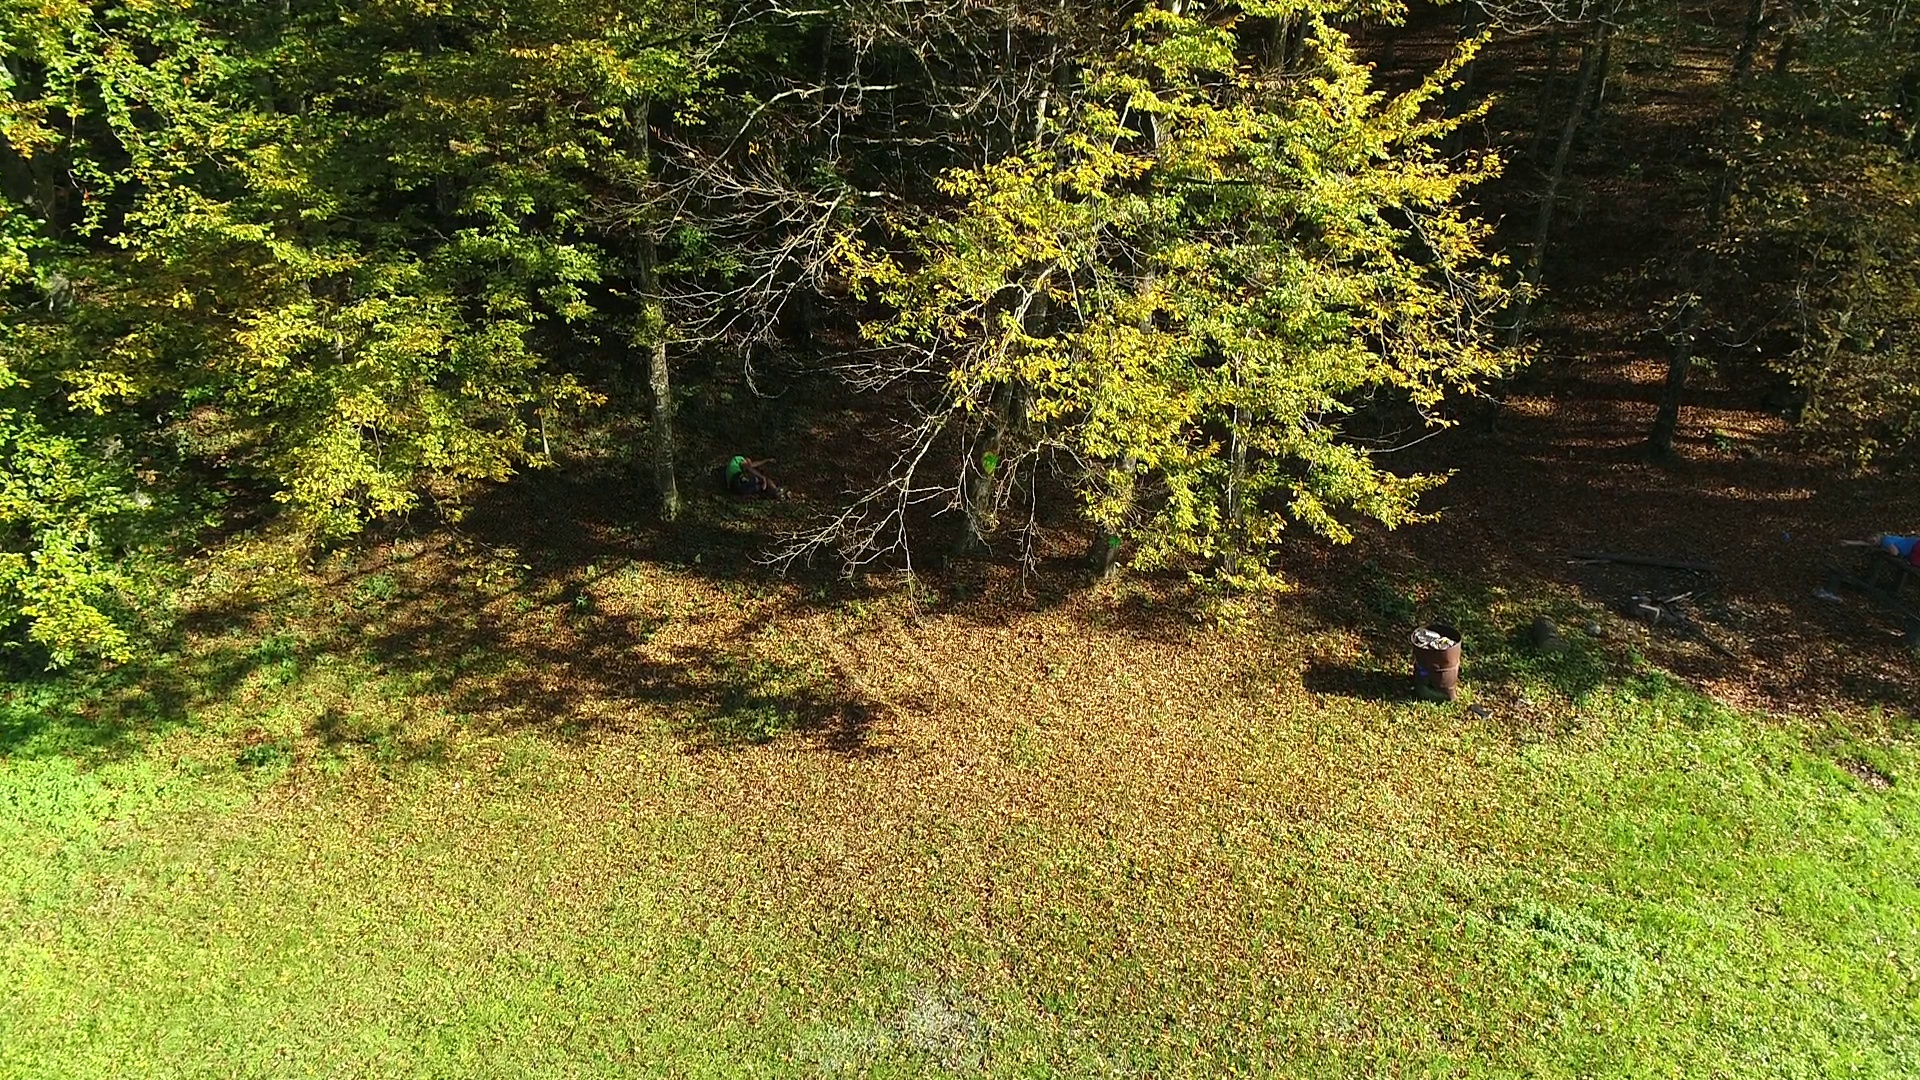person: (1838, 529, 1920, 570), (724, 454, 789, 497)
